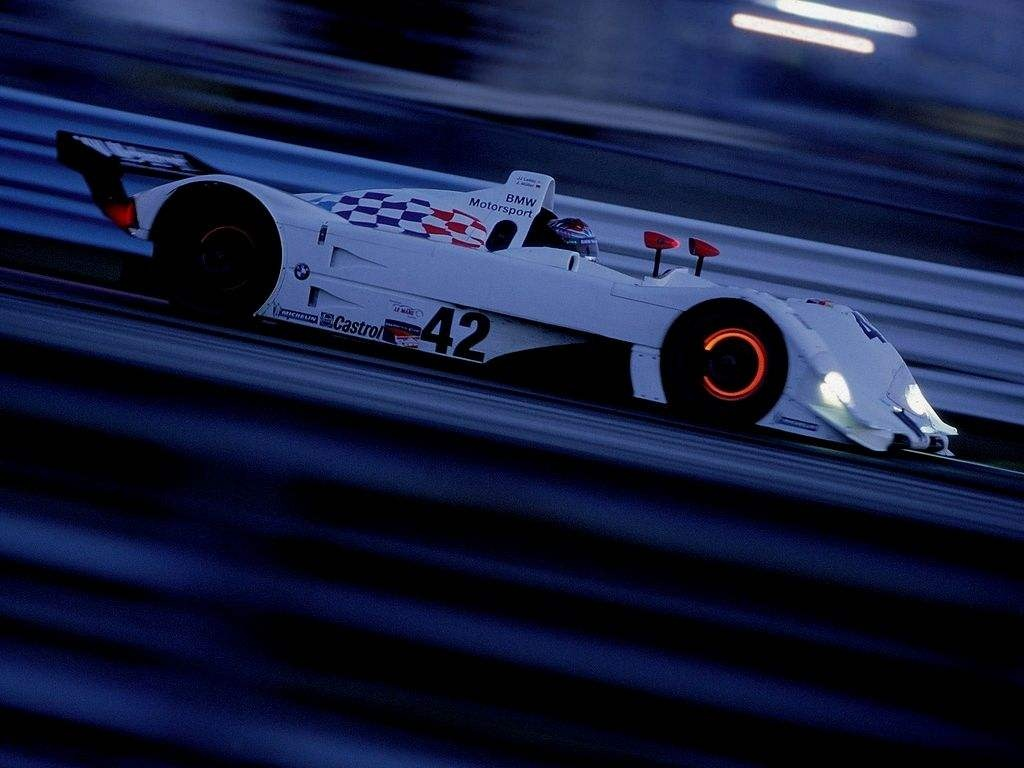racing car: (67, 93, 952, 476)
